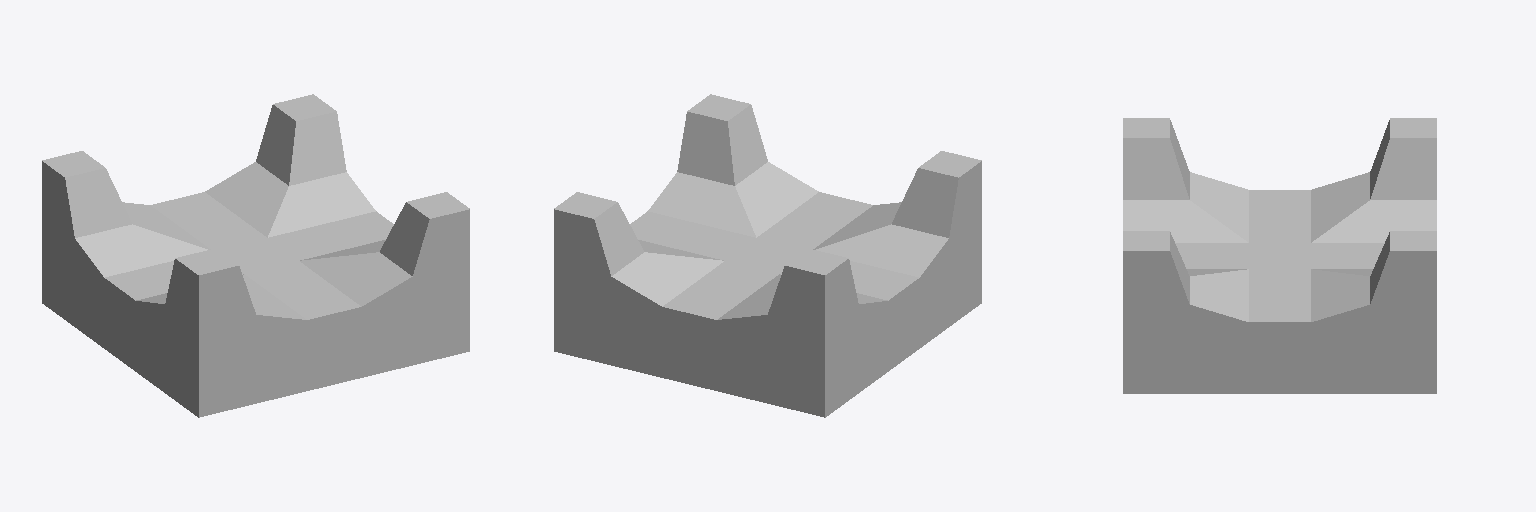
File: cross.obj
The picture shows the model from 3 angles: view 1: azimuth 30°, elevation 25°; view 2: azimuth 150°, elevation 25°; view 3: azimuth 270°, elevation 25°; orthographic projection.
Parts seen in each view (by area): view 1: cross; view 2: cross; view 3: cross.
Boxes of the visible parts, x1=… form: cross: x1=42, y1=94, x2=469, y2=417; cross: x1=554, y1=94, x2=981, y2=417; cross: x1=1123, y1=118, x2=1436, y2=393.
Bounding box in the file's own units: 1 × 0.5 × 1.